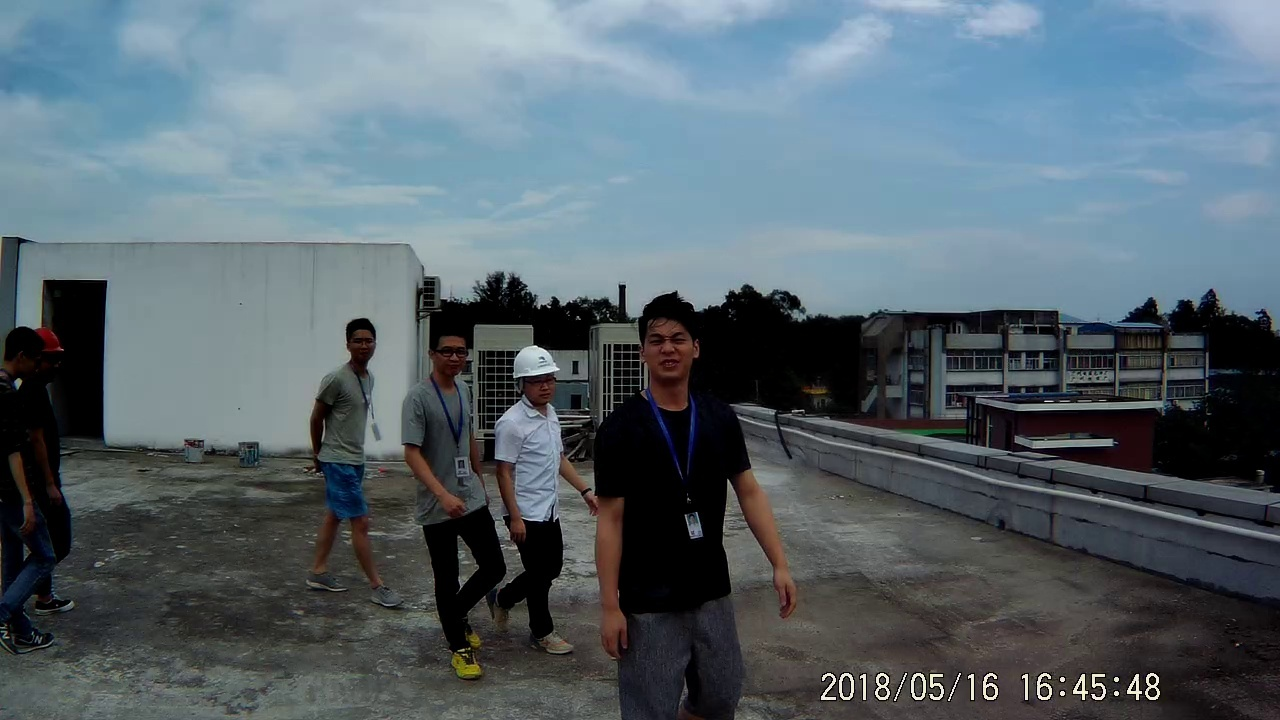none: (633, 288, 702, 391), (424, 320, 472, 381), (1, 321, 40, 384), (339, 315, 380, 369)
red: (28, 322, 64, 389)
white: (506, 339, 560, 412)
